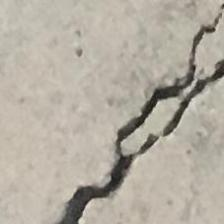Crack: (37, 16, 224, 224)
